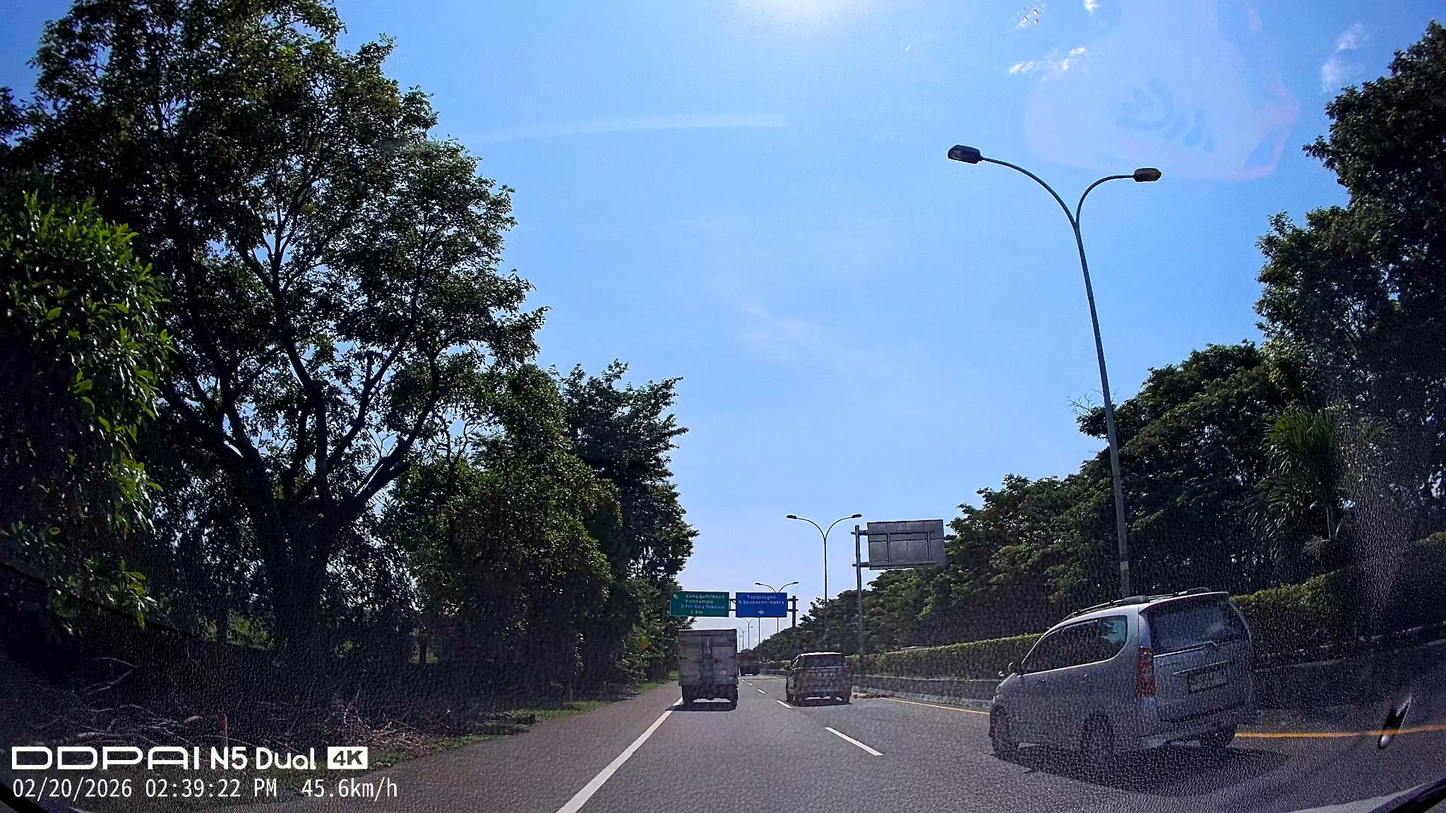rambu_teks: (669, 590, 730, 618), (736, 591, 787, 619)
